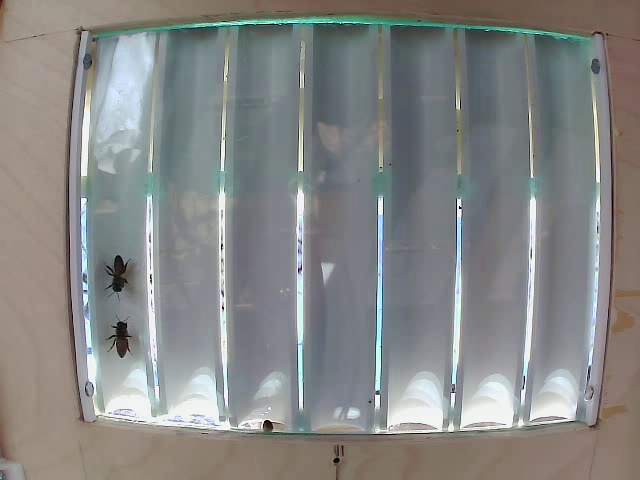bee: (105, 309, 150, 368), (104, 251, 137, 294)
